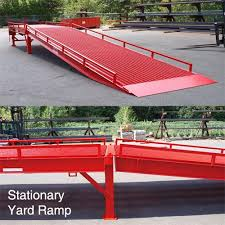Yard Ramp: (6, 17, 214, 97)
